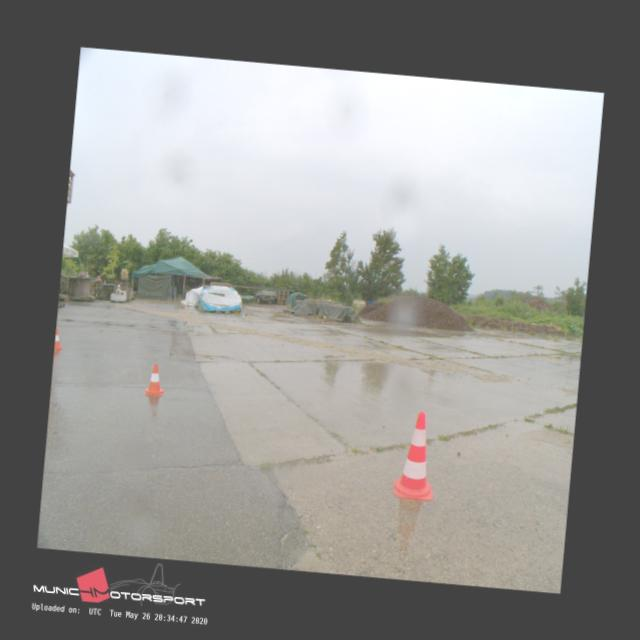large_orange_cone: (390, 408, 440, 501)
orange_cone: (144, 362, 166, 396), (54, 328, 64, 351)
